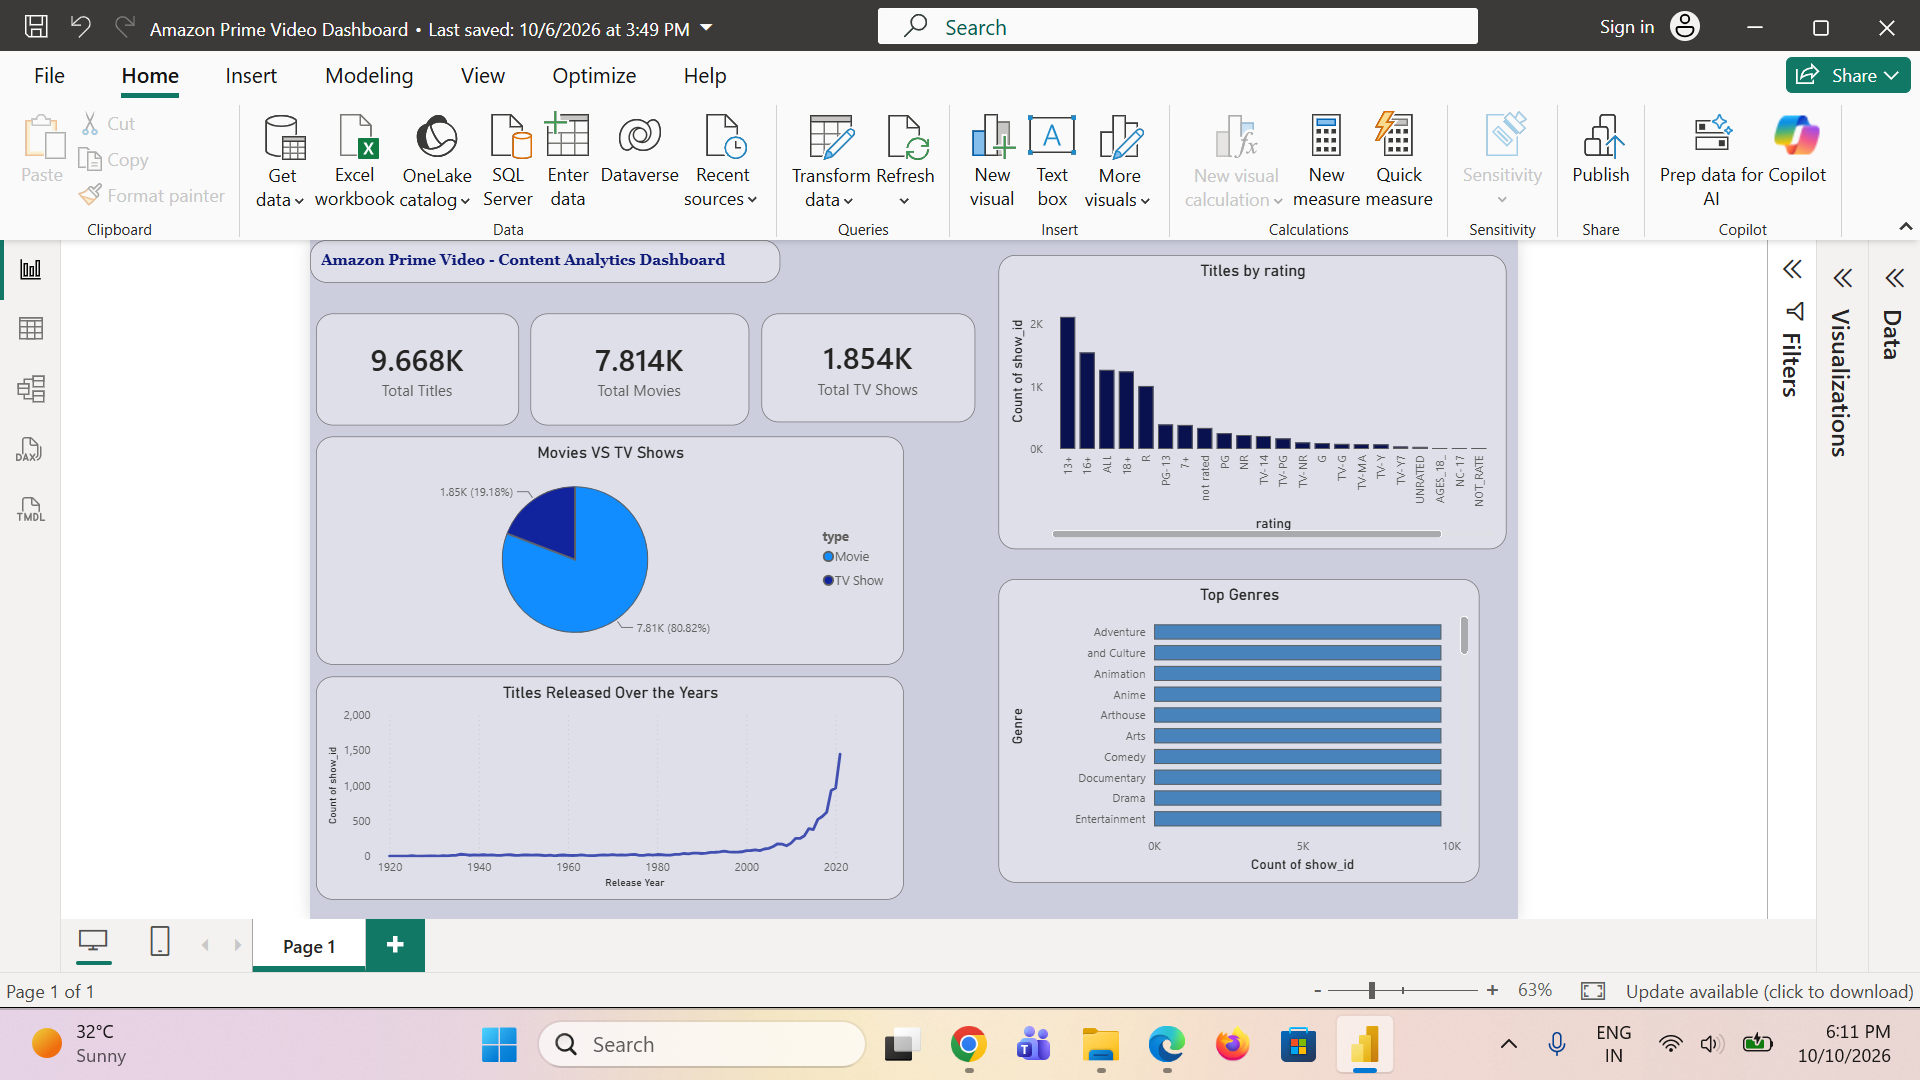

What the dashboard file says about the page in this screenshot:
{"tool":"powerbi","page":{"name":"Page 1","canvas":[1280,720],"ordinal":0},"visuals":[{"type":"cardVisual","title":"Total Titles","fields":{"Data":["Count(data.show_id)"]},"box":[6.7,78.3,215,118.3],"z":0},{"type":"cardVisual","title":"Total TV Shows","fields":{"Data":["Count(data.show_id)"]},"box":[478.3,78.3,226.7,115],"z":2000},{"type":"lineChart","title":"Titles Released Over the Years ","fields":{"Category":["data.Release Year"],"Y":["Count(data.show_id)"]},"box":[6.7,463.3,623.3,236.7],"z":2001},{"type":"barChart","title":"Top Genres","fields":{"Category":["Genres.Genre"],"Y":["Count(data.show_id)"]},"box":[730,360,510,321.7],"z":2002},{"type":"clusteredColumnChart","title":"Titles by rating","fields":{"Category":["data.rating"],"Y":["Count(data.show_id)"]},"box":[730,16.7,538.3,311.7],"z":2003},{"type":"pieChart","title":"Movies VS TV Shows","fields":{"Category":["data.type"],"Y":["Count(Genres.show_id)"]},"box":[6.7,208.3,623.3,241.7],"z":2004},{"type":"cardVisual","title":"Total Movies ","fields":{"Data":["Count(data.show_id)"]},"box":[233.3,78.3,231.7,118.3],"z":2005},{"type":"textbox","box":[0,0,498.3,45],"z":2006}]}

Visuals, with their boxes on the page's 1280x720 design canvas (x1, y1, x2, y2). These are canvas units, not pixel positions in the 1920x1080 screenshot, which may show the page scaled, cropped or inside an application window:
"Total Titles" cardVisual: select_region(7, 78, 222, 197)
"Total TV Shows" cardVisual: select_region(478, 78, 705, 193)
"Titles Released Over the Years " lineChart: select_region(7, 463, 630, 700)
"Top Genres" barChart: select_region(730, 360, 1240, 682)
"Titles by rating" clusteredColumnChart: select_region(730, 17, 1268, 328)
"Movies VS TV Shows" pieChart: select_region(7, 208, 630, 450)
"Total Movies " cardVisual: select_region(233, 78, 465, 197)
textbox: select_region(0, 0, 498, 45)
